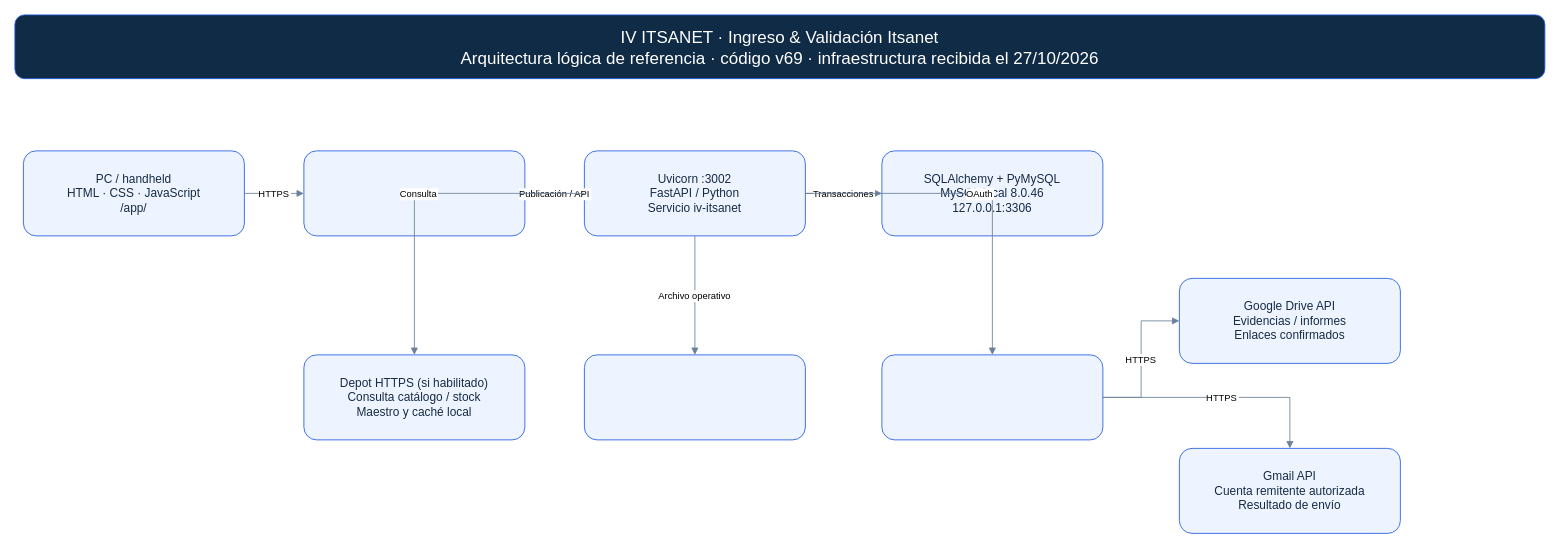
Image size: 1560x548. Some labels were removed from this diagram. Here are the shapes that lost their labels. From the top down, the centre of each, then its label:
At point 414,193: "Apache2 HTTPS 8443 Virtual host itsanet-app-8443.conf".
At point 694,397: "VAL_DATA_DIR Originales / miniaturas Clave externa protegida".
At point 992,397: "Google OAuth central PKCE / tokens cifrados Autorización de cuenta".
